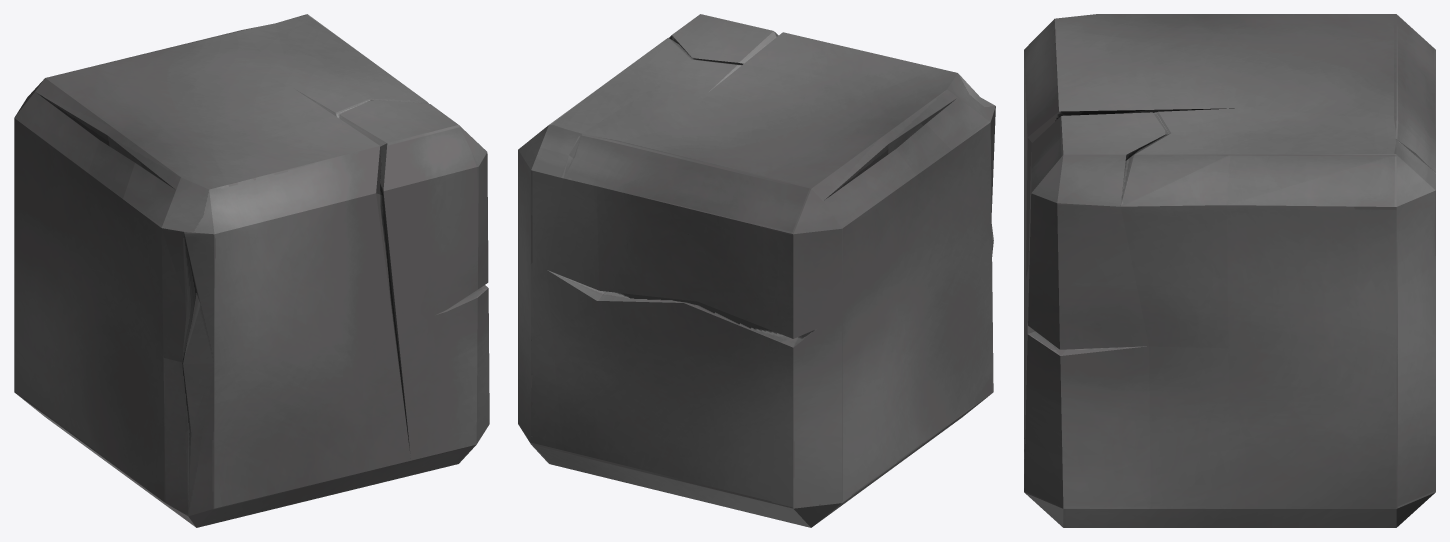
The model's file is rock.fbx.
The picture shows the model from 3 angles, left to right: view 1: azimuth 30°, elevation 25°; view 2: azimuth 150°, elevation 25°; view 3: azimuth 270°, elevation 25°; orthographic projection. The views are drawn at different scales.
Parts seen in each view (by area): view 1: Cube; view 2: Cube; view 3: Cube.
Boxes of the visible parts, box(x1,y1,x2,y2) form: Cube: box(14, 14, 489, 527); Cube: box(518, 14, 995, 527); Cube: box(1024, 14, 1435, 527).
Bounding box in the file's own units: 200 × 200 × 200.
1 material, 1 textured.
